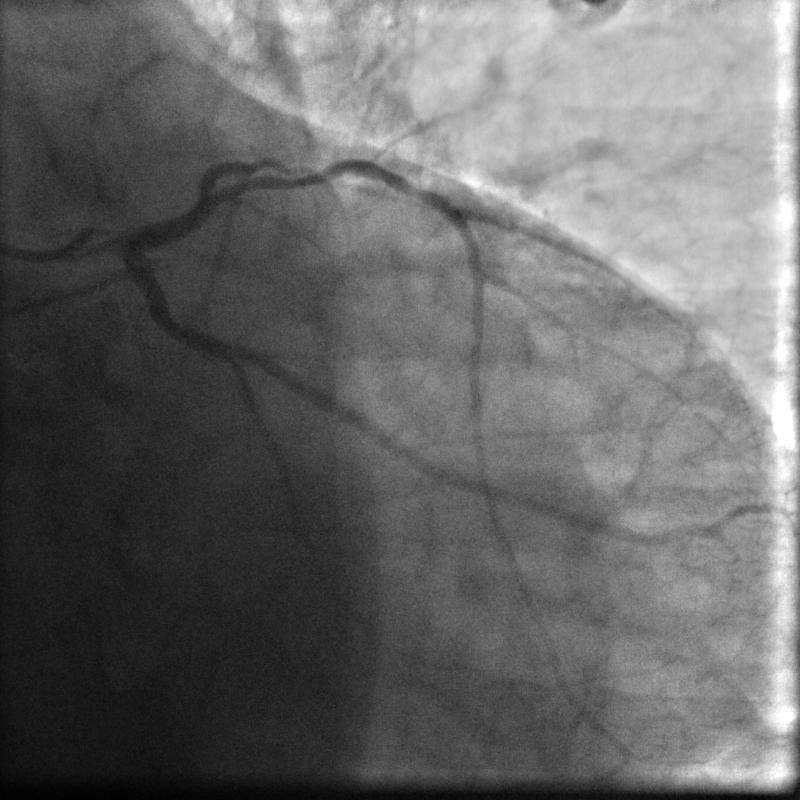Stenosis: (278, 158, 394, 188)
